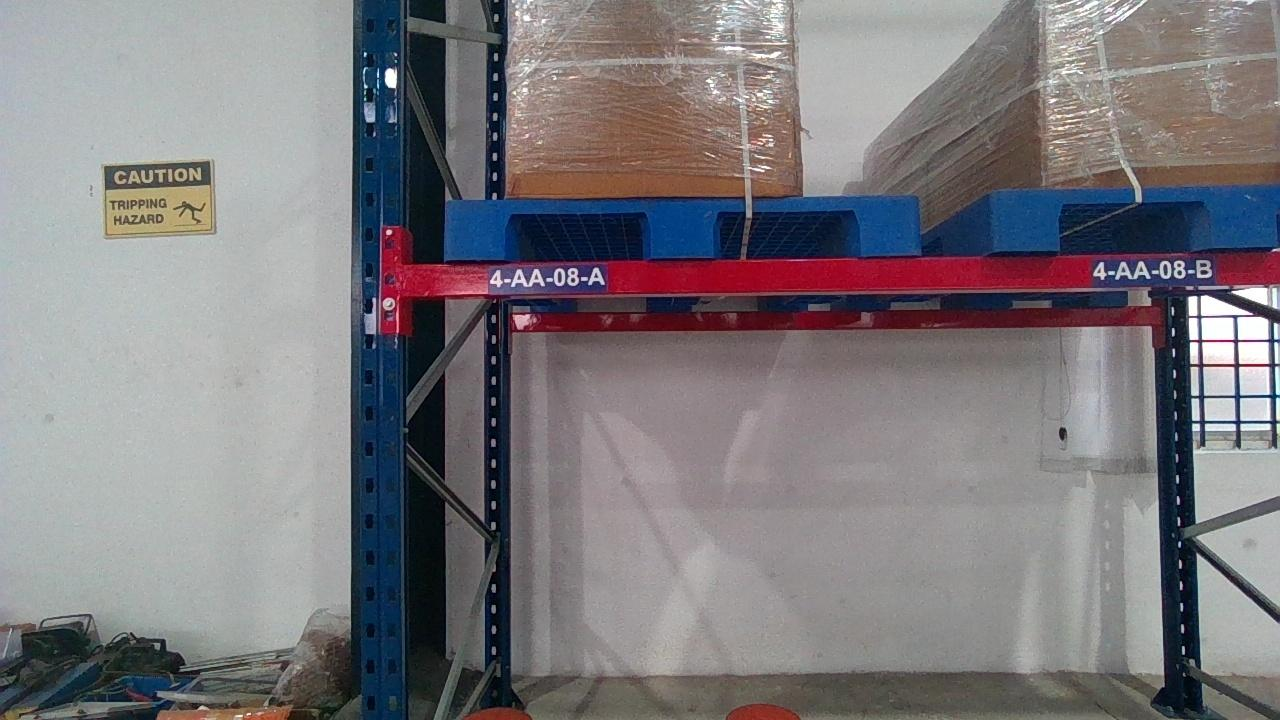h_rack: (404, 251, 1278, 292)
small_pallet: (441, 195, 920, 257), (994, 183, 1279, 245)
